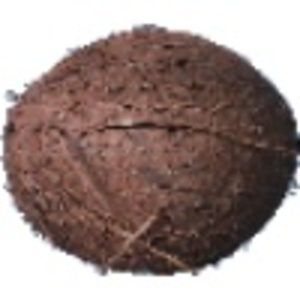coco: (1, 25, 300, 277)
